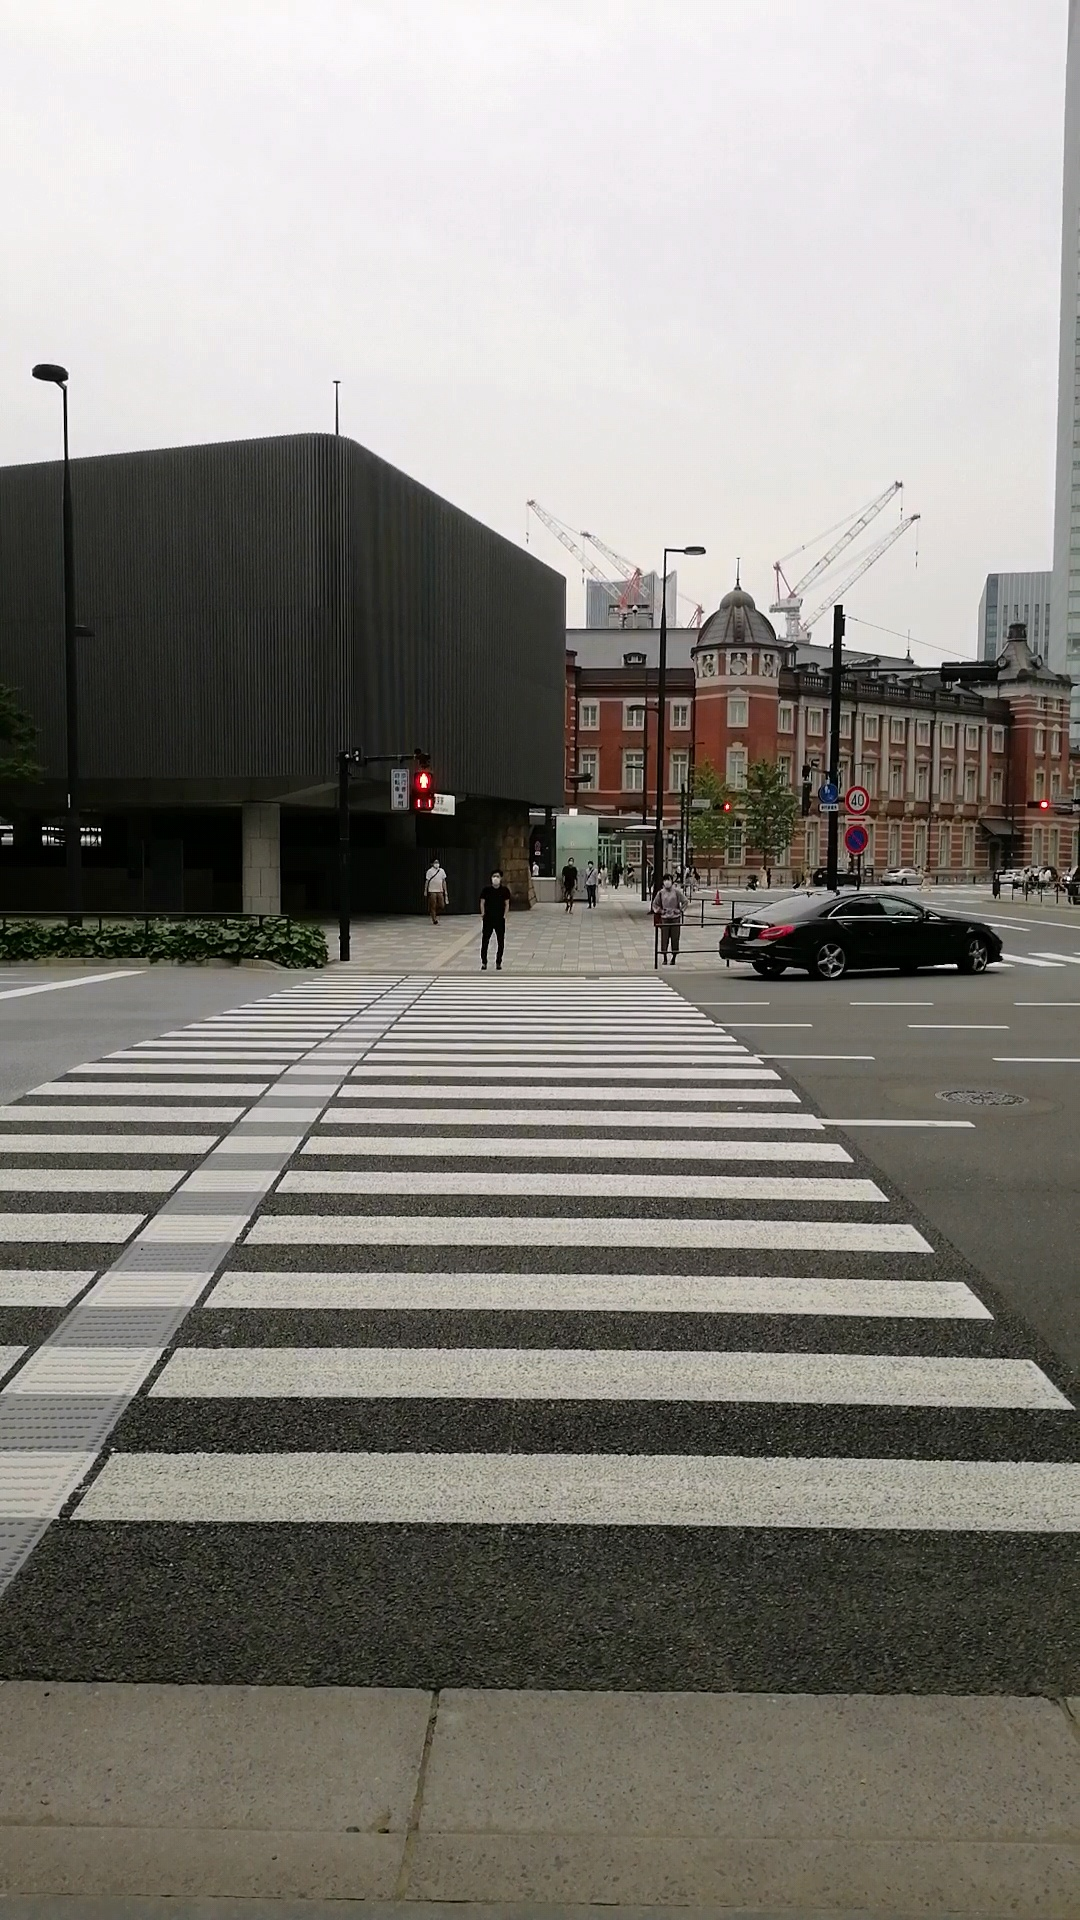red: (411, 767, 435, 814)
